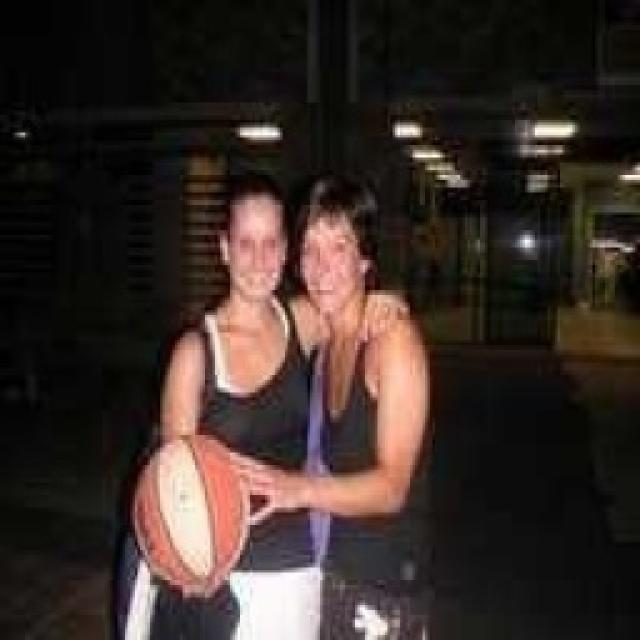rim: (127, 428, 255, 604)
